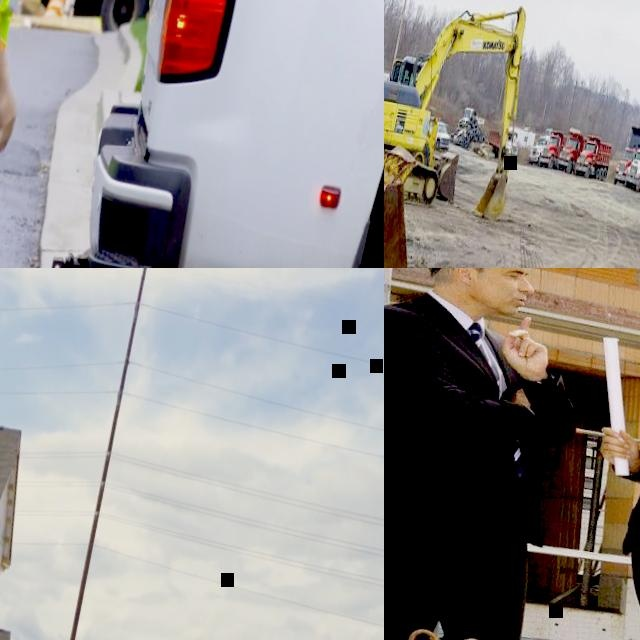Hardhat: (417, 268, 552, 288), (435, 119, 437, 123)
NO-Mask: (462, 277, 532, 320)
NO-Safety Vest: (384, 297, 571, 543)
Person: (384, 268, 640, 640), (528, 268, 640, 640), (0, 0, 92, 268), (427, 118, 441, 158)
Safety Cone: (44, 0, 66, 19)
Safety Vest: (432, 126, 439, 141)
machinery: (384, 0, 544, 225), (384, 0, 496, 268), (574, 133, 614, 184), (612, 124, 640, 190), (557, 127, 590, 177), (484, 126, 522, 165), (538, 130, 570, 173), (528, 126, 554, 167), (623, 139, 640, 196), (457, 107, 487, 138)
vehicle: (8, 0, 384, 268), (423, 115, 453, 153)
